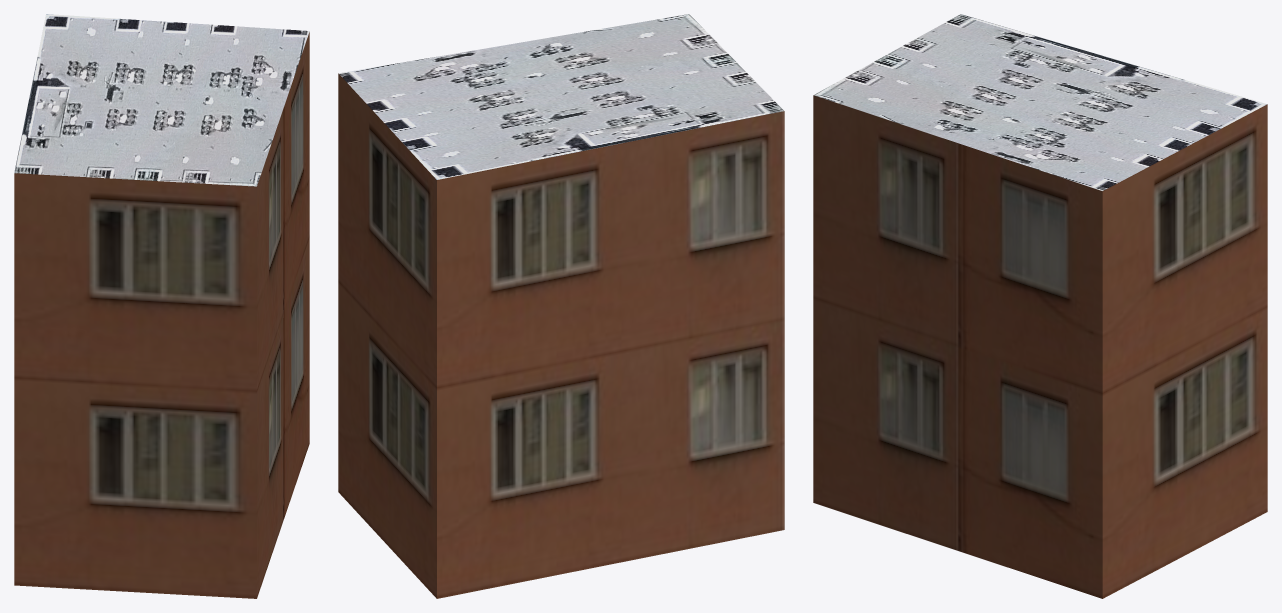
The model's file is ResTex__4133.fbx.
The picture shows the model from 3 angles, left to right: view 1: azimuth 30°, elevation 25°; view 2: azimuth 150°, elevation 25°; view 3: azimuth 270°, elevation 25°; orthographic projection. The views are drawn at different scales.
Parts seen in each view (by area): view 1: CityEngineMaterial_20_m, CityEngineMaterial_4_m; view 2: CityEngineMaterial_20_m, CityEngineMaterial_4_m; view 3: CityEngineMaterial_20_m, CityEngineMaterial_4_m.
Boxes of the visible parts, <box> form: CityEngineMaterial_20_m: <box>14,32,309,598</box>; CityEngineMaterial_4_m: <box>14,14,309,186</box>; CityEngineMaterial_20_m: <box>338,73,784,598</box>; CityEngineMaterial_4_m: <box>339,14,783,179</box>; CityEngineMaterial_20_m: <box>813,95,1267,598</box>; CityEngineMaterial_4_m: <box>813,14,1266,190</box>.
Size of the model in its own units: 5.59 by 6 by 6.06.
Materials: 2 (2 with a texture image).
